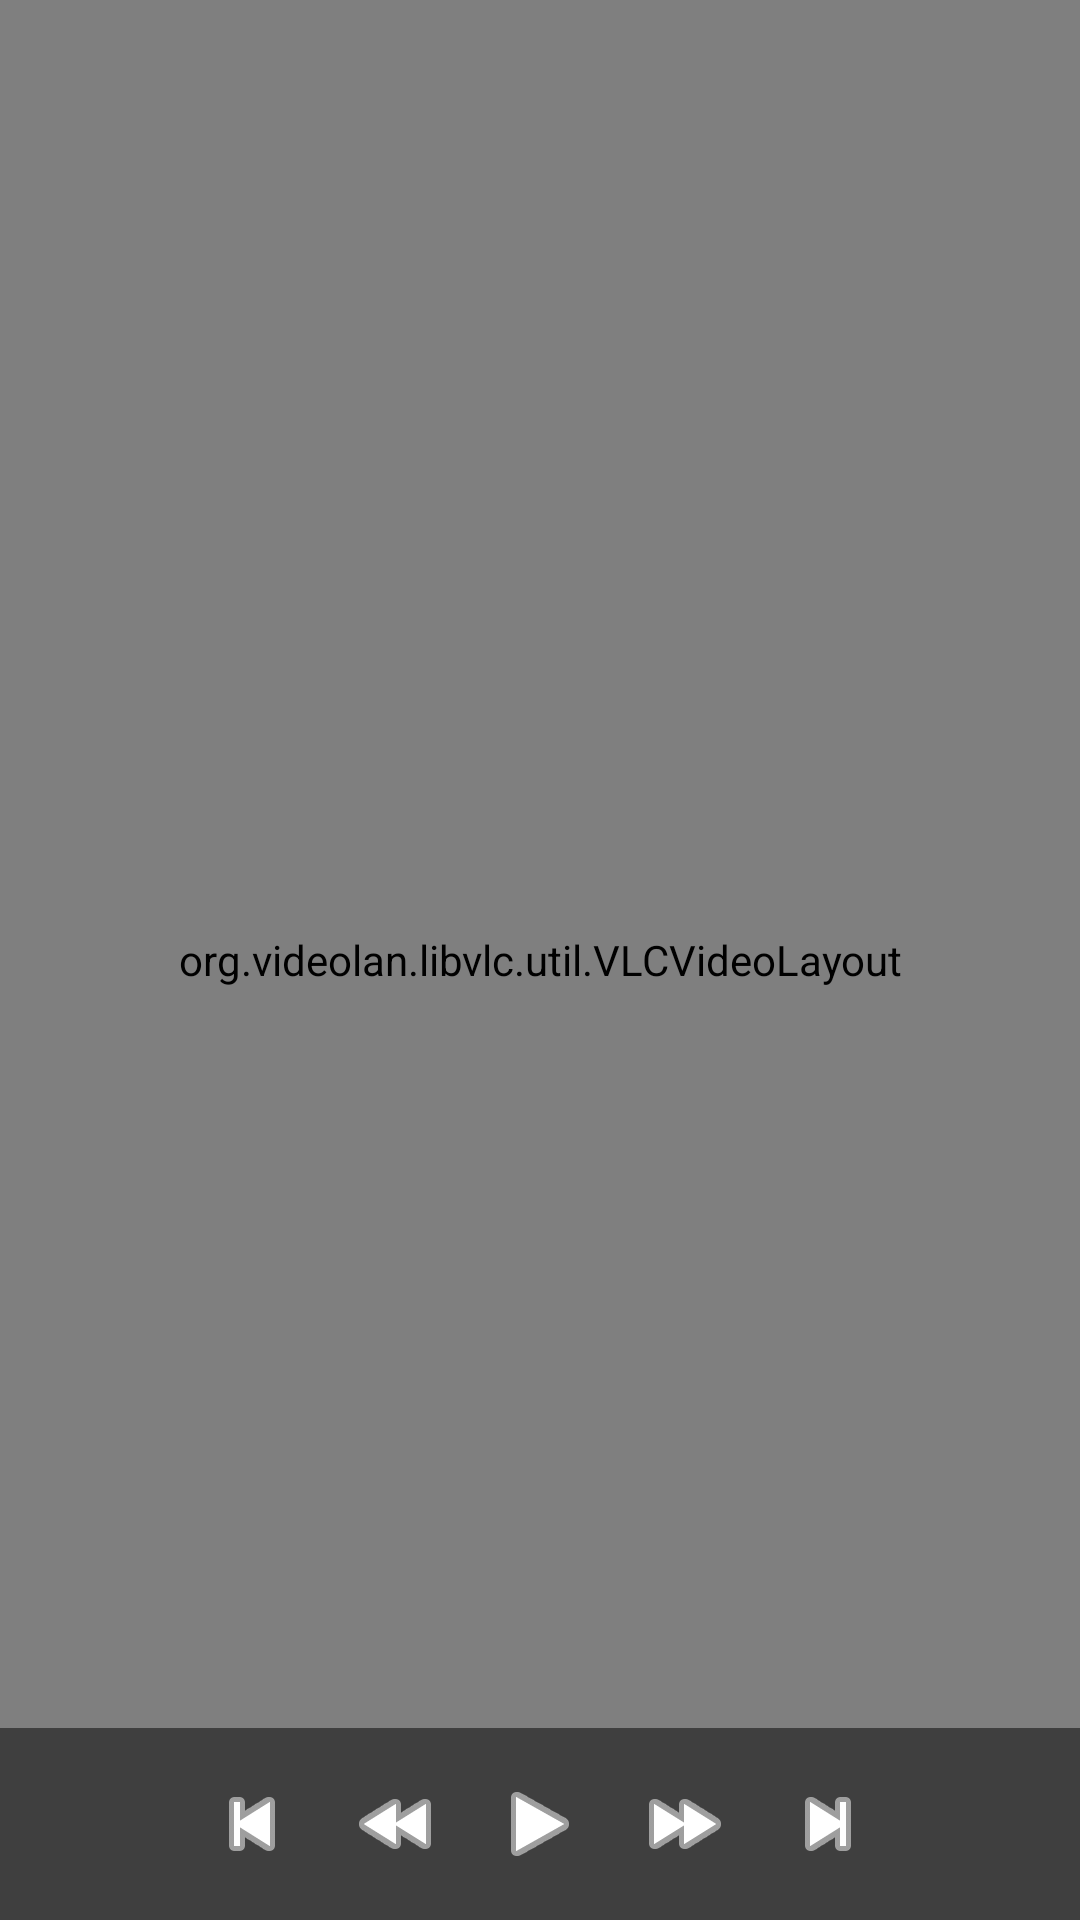

Screen size 1080*1920. Icon name, then its box in pixels as (x1, y1, x2, y2):
next: (805, 1797, 851, 1851)
play: (511, 1792, 569, 1856)
previous: (229, 1797, 275, 1851)
rew: (359, 1799, 431, 1849)
